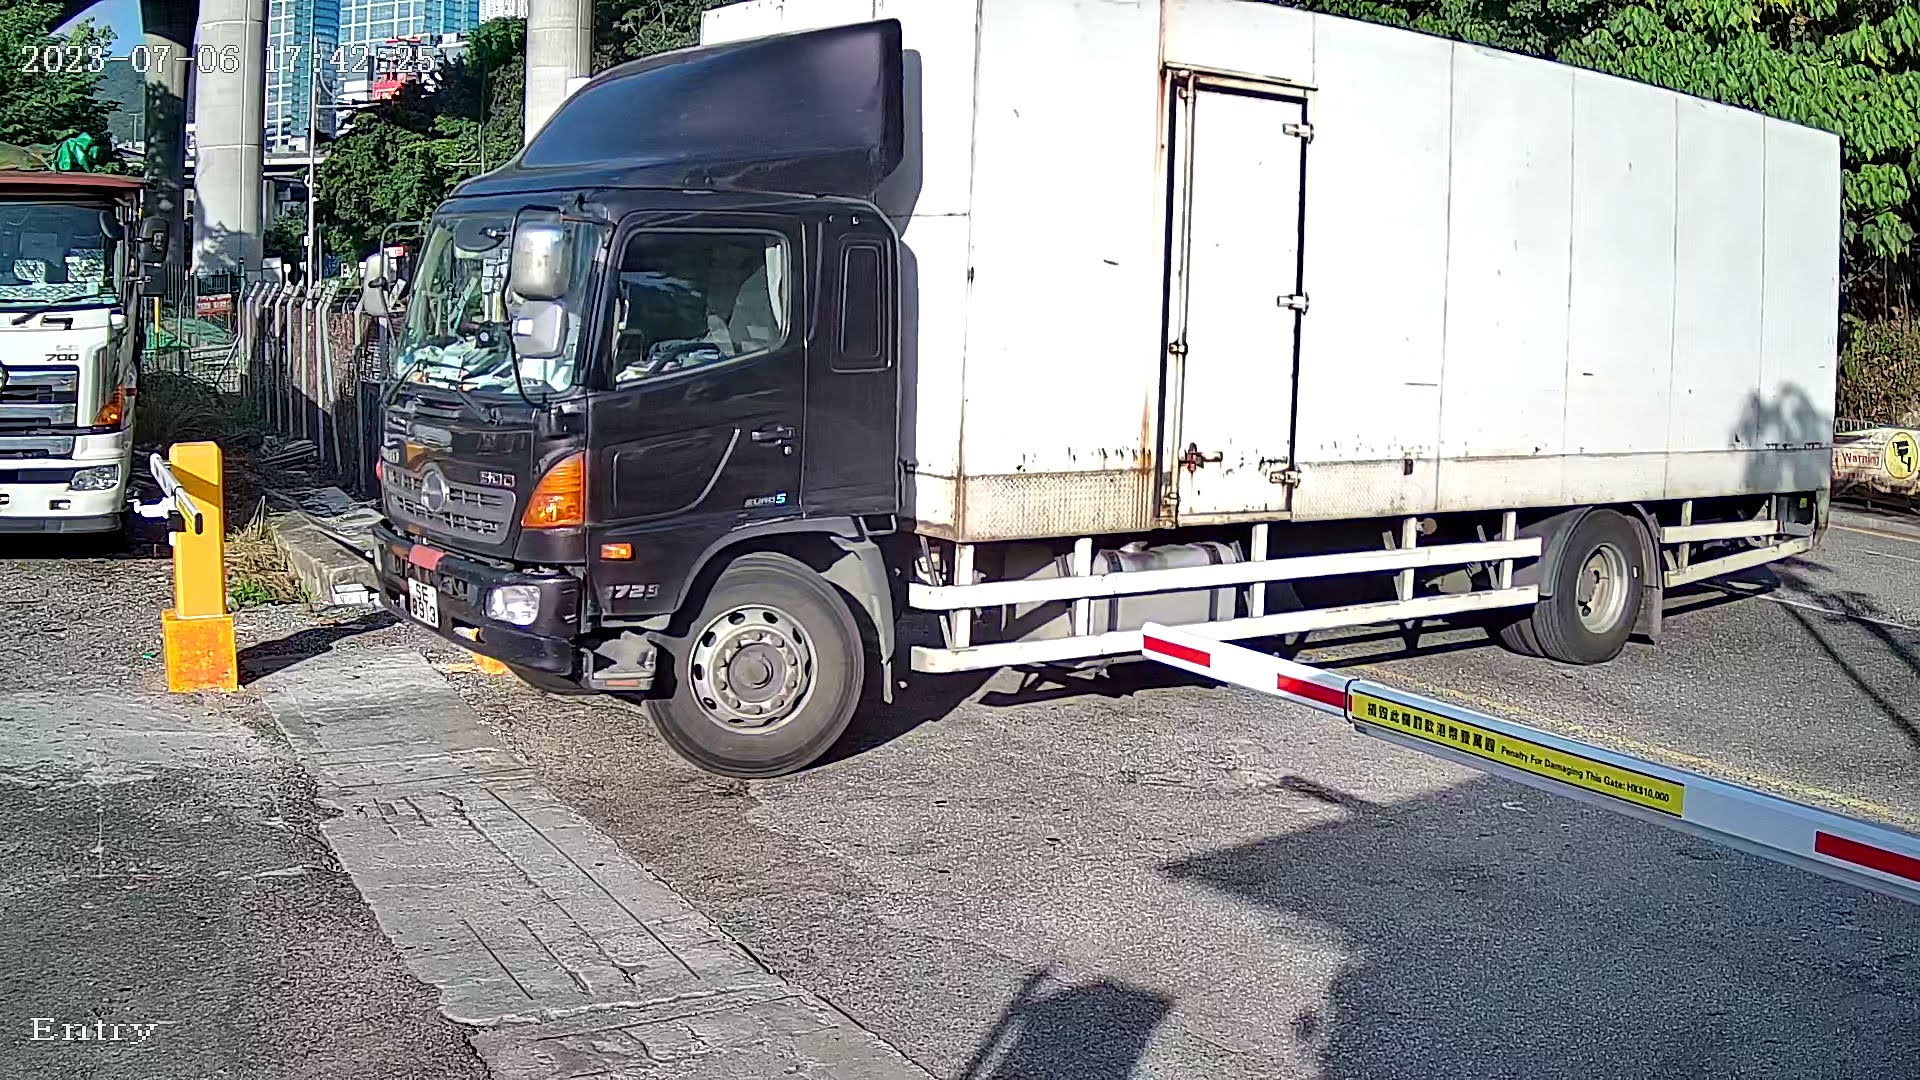truck: (363, 1, 1878, 812)
